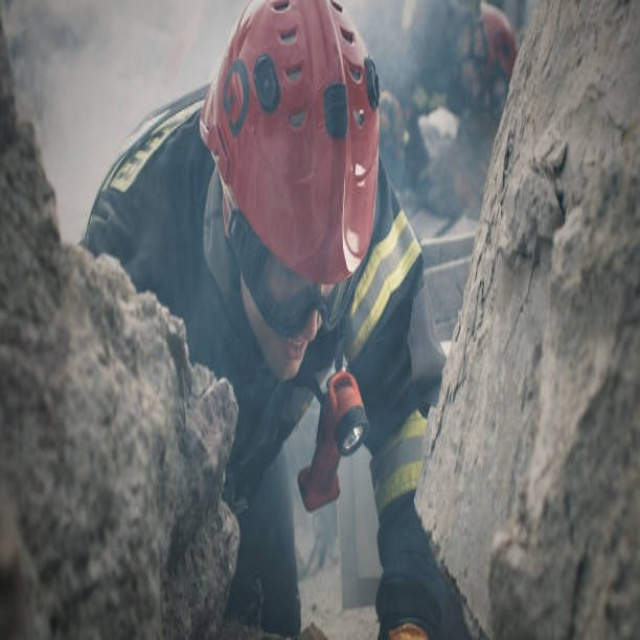Gafas: (223, 193, 361, 324)
Sin_mascara: (273, 335, 317, 380)
